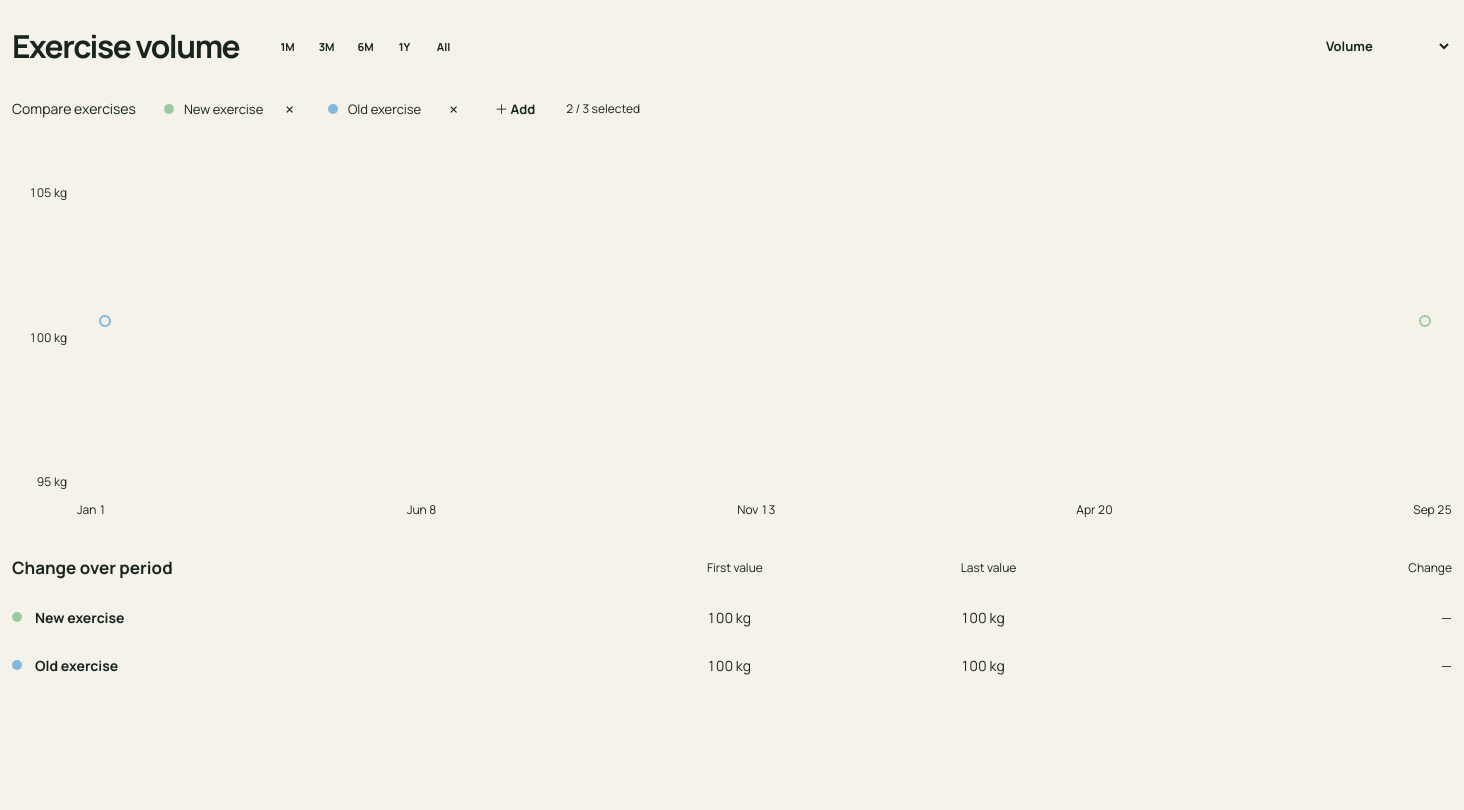
History analysis › shows an honest empty period and restores Add after removing an exercise
expect the number of elements with class "analysis-chip" is 2: met, box [152,89,307,128]; [316,89,471,128]
Click the button named "Remove New exercise" at [290, 108], box [281,96,298,122]
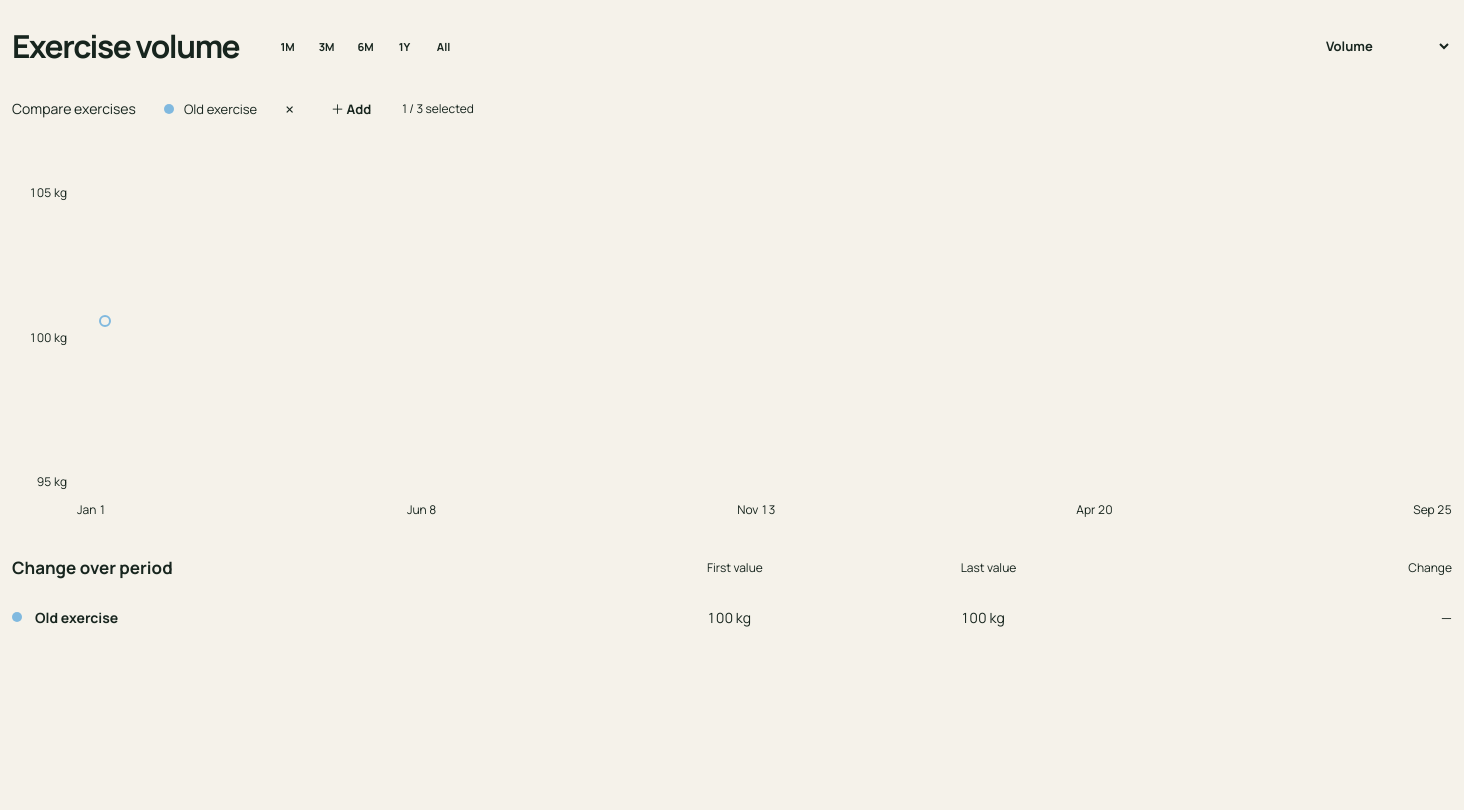
Click the button "1M" at [288, 46], box [268,30,307,62]
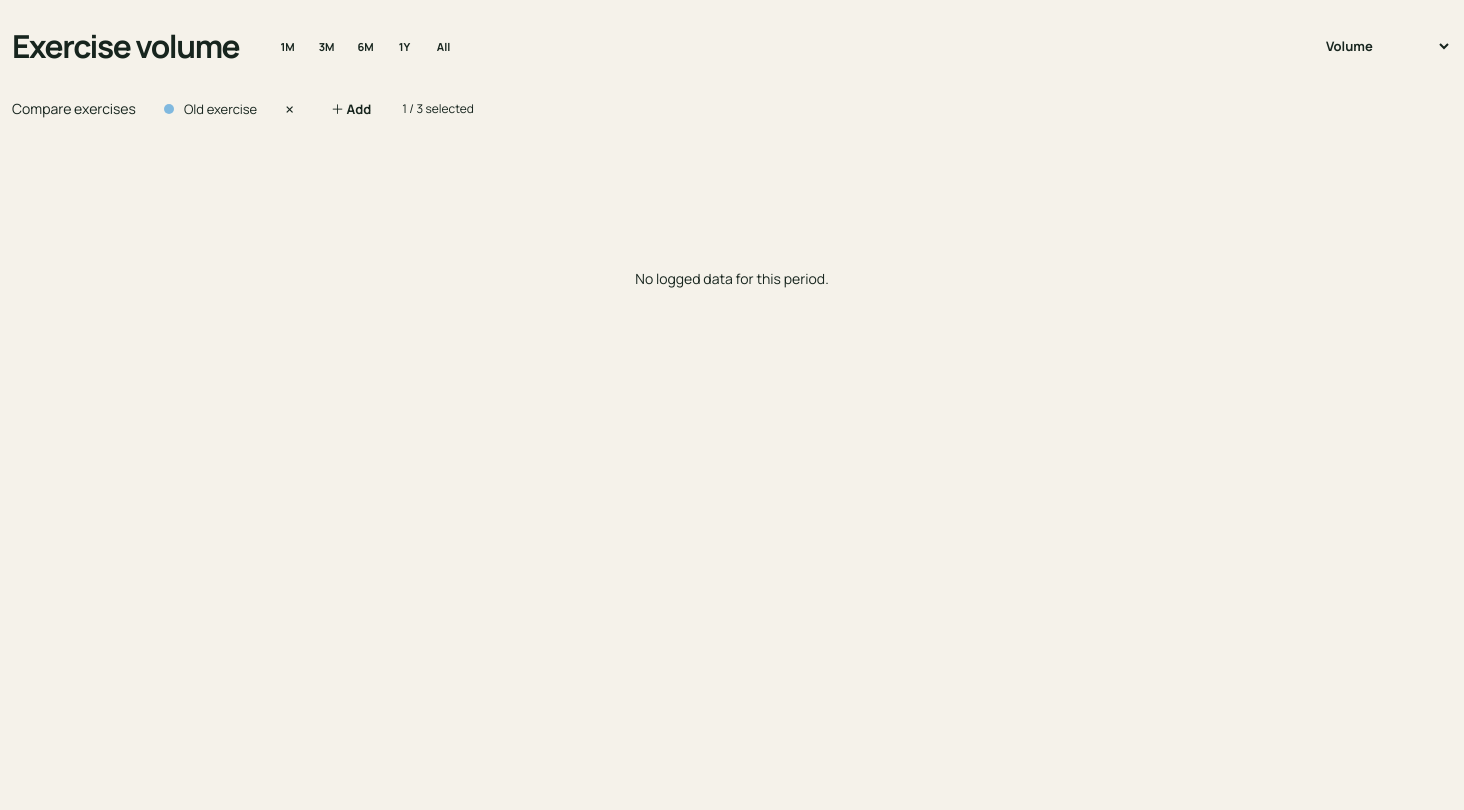
expect the button "＋ Add" is shown: met, box [316,89,386,128]
expect the text "No logged data for this period." is shown: met, box [635,268,829,288]
